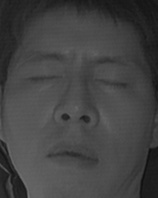blink: (94, 65, 135, 96), (20, 65, 62, 90)
mouth: (44, 135, 100, 173)
